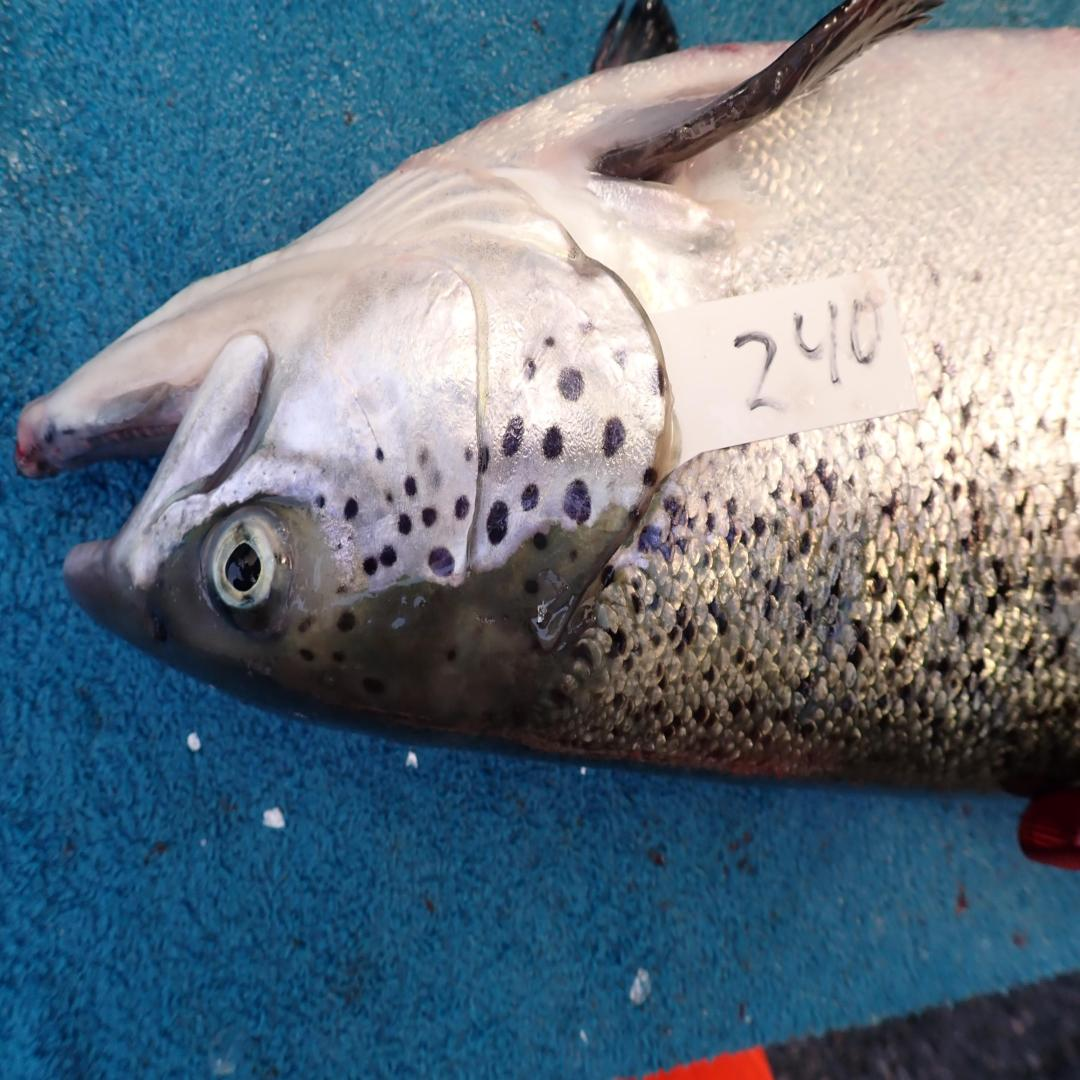spot: (563, 478, 591, 523), (603, 416, 626, 458), (487, 501, 508, 546), (557, 368, 584, 402), (502, 416, 523, 456), (428, 548, 454, 577), (542, 428, 563, 458), (521, 484, 538, 512), (612, 346, 629, 368), (344, 498, 359, 520), (380, 546, 397, 565), (456, 495, 468, 520), (363, 557, 378, 577), (422, 506, 437, 526), (643, 467, 658, 487), (405, 475, 418, 498), (523, 357, 536, 380), (335, 579, 352, 596), (479, 444, 489, 472), (578, 321, 595, 335), (417, 446, 428, 467), (399, 515, 411, 534), (657, 365, 664, 395), (430, 473, 441, 491), (314, 495, 325, 509), (464, 446, 473, 461), (544, 335, 555, 346), (376, 446, 384, 461), (386, 492, 394, 503), (337, 543, 343, 550), (347, 537, 353, 542)
